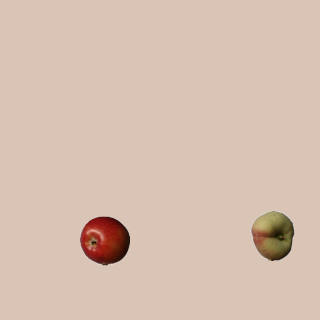Apple Braeburn: (79, 215, 129, 265)
Peach Flat: (247, 210, 297, 260)
